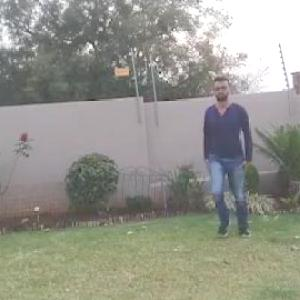follow: (201, 79, 252, 232)
